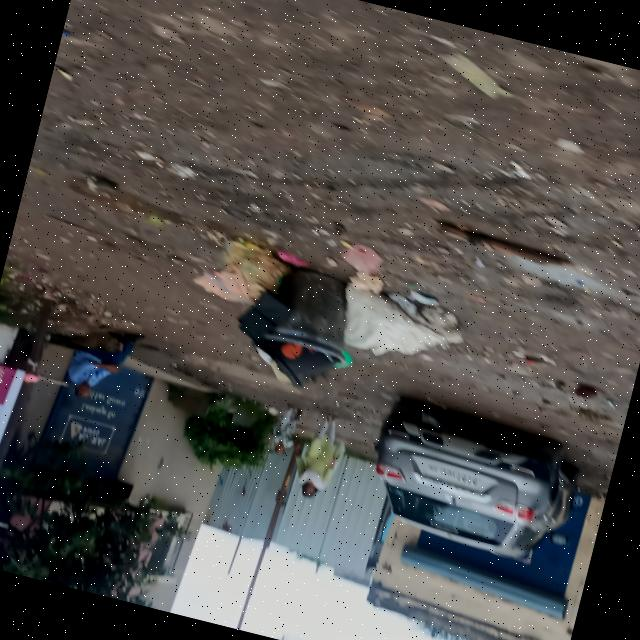garbage: (190, 242, 455, 404)
